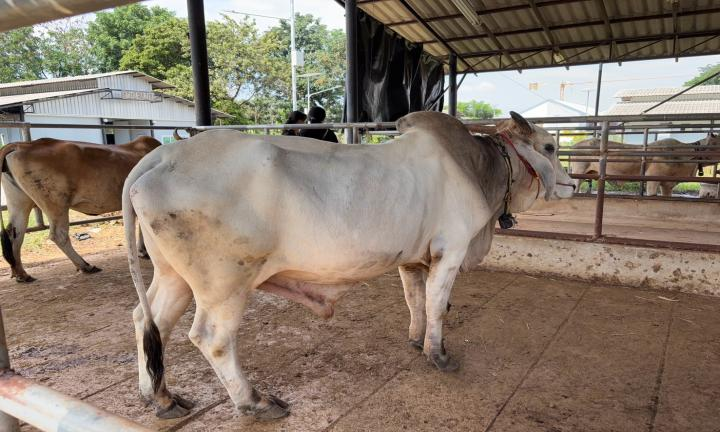Brahman: (122, 111, 572, 418)
